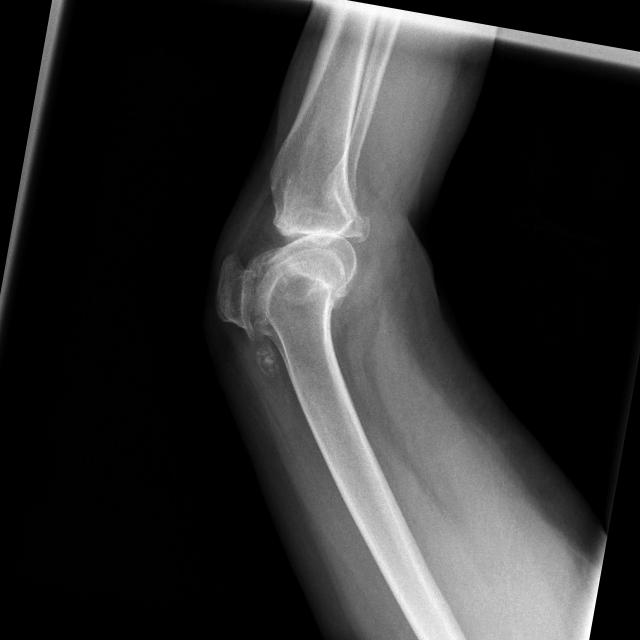Knee: (205, 163, 375, 353)
